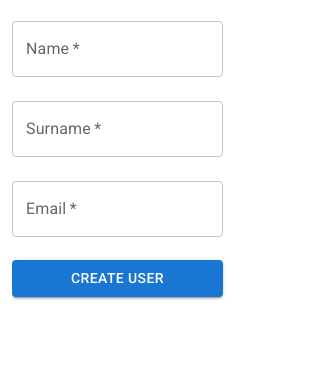
Scenario: UserForm › should display name input › with max length field error
Type "nameWithLettersNumberGreaterThan32" into the field labelled "Name *" at (118, 49), box [12,21,223,77]
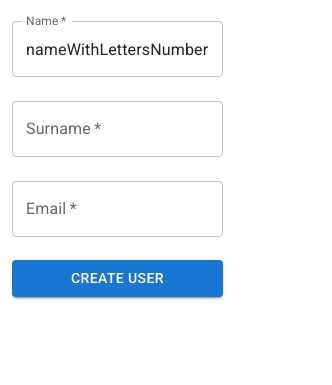
Click the button "Create User" at (118, 278), box [12,260,223,296]
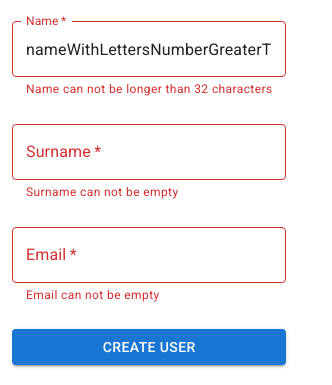
Expected: the text "Name can not be longer than 32 characters" is shown, [26,80,272,100]
